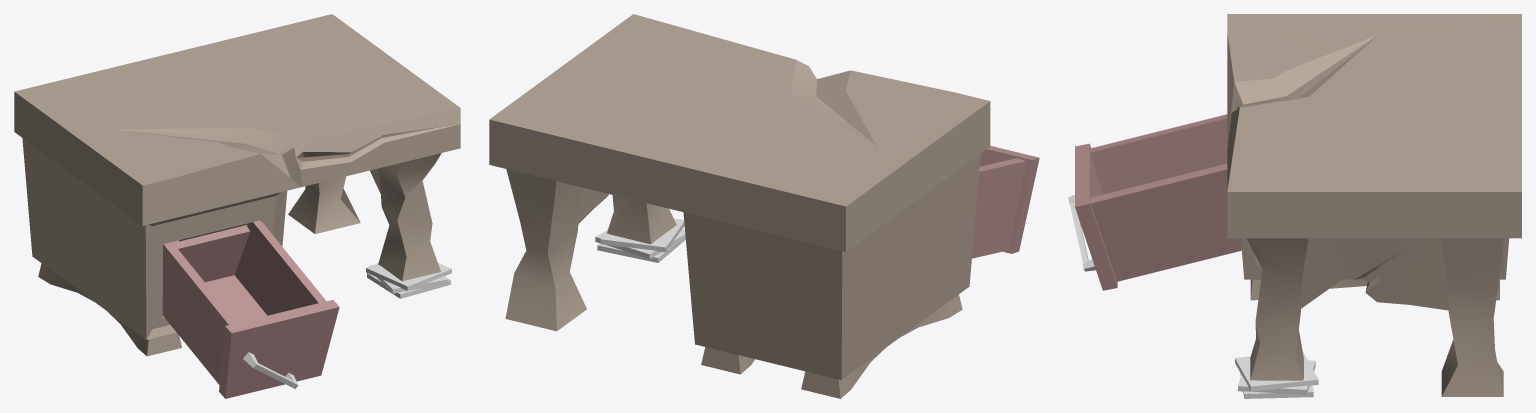
Rendered from DeskBasicBroken.glb.
The picture shows the model from 3 angles, left to right: view 1: azimuth 30°, elevation 25°; view 2: azimuth 150°, elevation 25°; view 3: azimuth 270°, elevation 25°; orthographic projection. The views are drawn at different scales.
Parts seen in each view (by area): view 1: table, cupboard, draw, legfront, drawright, drawleft, draw_back, legback, drawfloor, cuplegleft, leghold1, handle (+2 smaller); view 2: table, cupboard, legback, drawright, legfront, draw, cuplegleft, leghold1, cuplegright, legconnect, leghold2, leghold3; view 3: table, drawleft, legconnect, legback, legfront, drawright, draw, leghold1, cupboard, handle, cuplegright, leghold2 (+1 smaller).
Part boxes in pixels (left/top/right/bottom): table: left=14, top=14, right=460, bottom=225; cupboard: left=22, top=138, right=287, bottom=339; draw: left=219, top=300, right=339, bottom=398; legfront: left=378, top=153, right=441, bottom=281; drawright: left=162, top=242, right=237, bottom=384; drawleft: left=235, top=220, right=326, bottom=315; draw_back: left=173, top=225, right=250, bottom=282; legback: left=288, top=176, right=360, bottom=233; drawfloor: left=205, top=275, right=266, bottom=322; cuplegleft: left=38, top=263, right=181, bottom=356; leghold1: left=366, top=263, right=451, bottom=290; handle: left=243, top=352, right=298, bottom=388; table: left=489, top=14, right=990, bottom=251; cupboard: left=683, top=153, right=980, bottom=379; legback: left=505, top=169, right=586, bottom=331; drawright: left=972, top=158, right=1026, bottom=258; legfront: left=607, top=195, right=676, bottom=244; draw: left=979, top=145, right=1039, bottom=253; cuplegleft: left=801, top=294, right=962, bottom=398; leghold1: left=600, top=218, right=684, bottom=252; cuplegright: left=701, top=347, right=755, bottom=374; legconnect: left=578, top=187, right=608, bottom=224; leghold2: left=595, top=228, right=685, bottom=259; leghold3: left=597, top=239, right=685, bottom=262; table: left=1227, top=14, right=1521, bottom=238; drawleft: left=1090, top=164, right=1241, bottom=281; legconnect: left=1301, top=238, right=1448, bottom=310; legback: left=1441, top=238, right=1504, bottom=396; legfront: left=1247, top=238, right=1308, bottom=380; drawright: left=1090, top=114, right=1227, bottom=194; draw: left=1075, top=143, right=1117, bottom=290; leghold1: left=1235, top=351, right=1318, bottom=391; cupboard: left=1241, top=238, right=1509, bottom=279; handle: left=1068, top=194, right=1095, bottom=271; cuplegright: left=1250, top=279, right=1499, bottom=300; leghold2: left=1238, top=360, right=1315, bottom=394.
Size of the model in its own units: 71.11 by 38.69 by 76.28.
